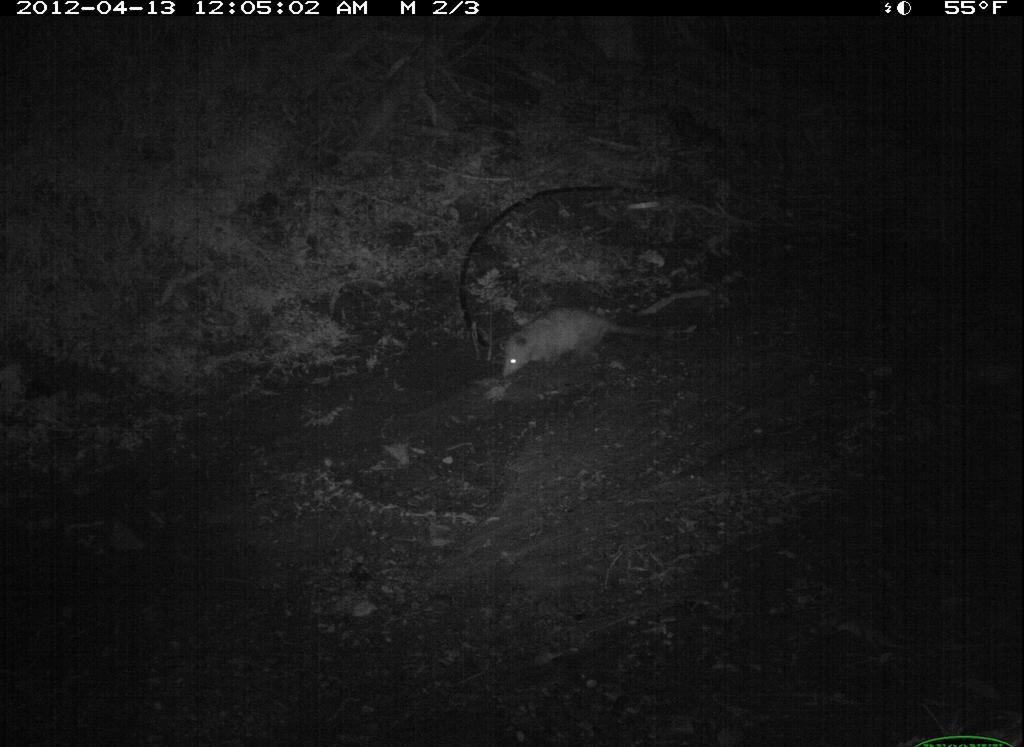opossum: (487, 298, 696, 392)
